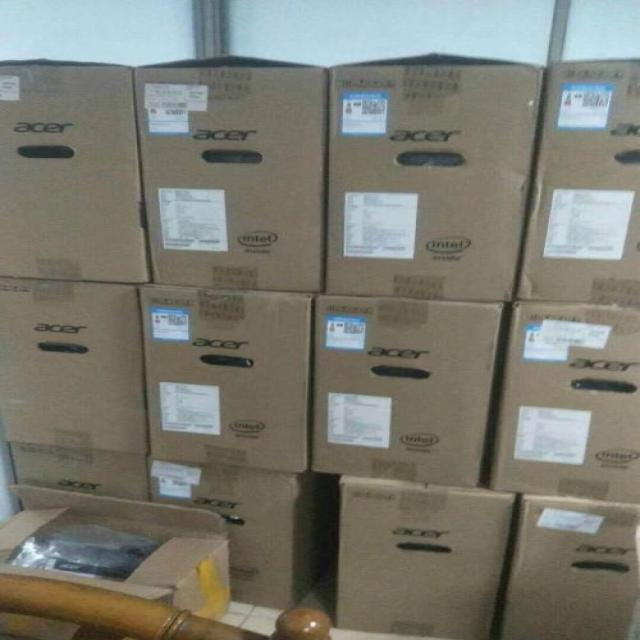box: (326, 53, 541, 303), (136, 53, 325, 292), (312, 296, 502, 488), (137, 285, 317, 474), (0, 58, 150, 283), (0, 486, 229, 619), (490, 302, 640, 505), (518, 61, 640, 308), (337, 475, 513, 639), (0, 278, 146, 454), (148, 462, 321, 608), (499, 494, 640, 639), (6, 441, 147, 505)
